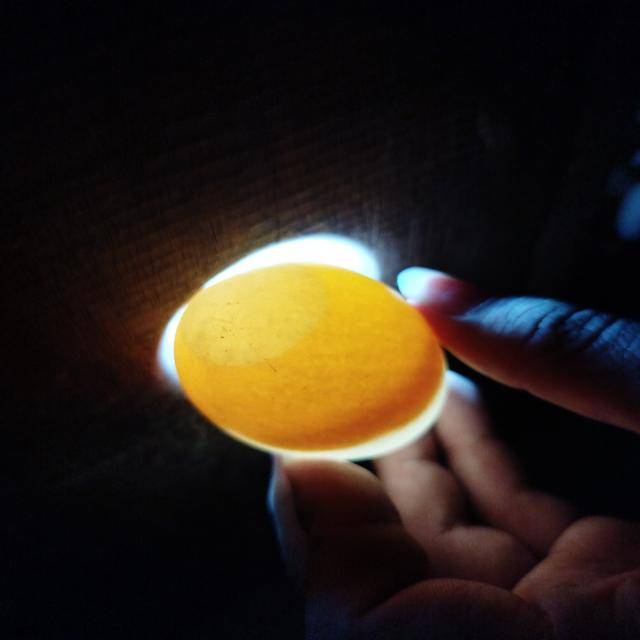Camara de Ar: (180, 266, 322, 366)
